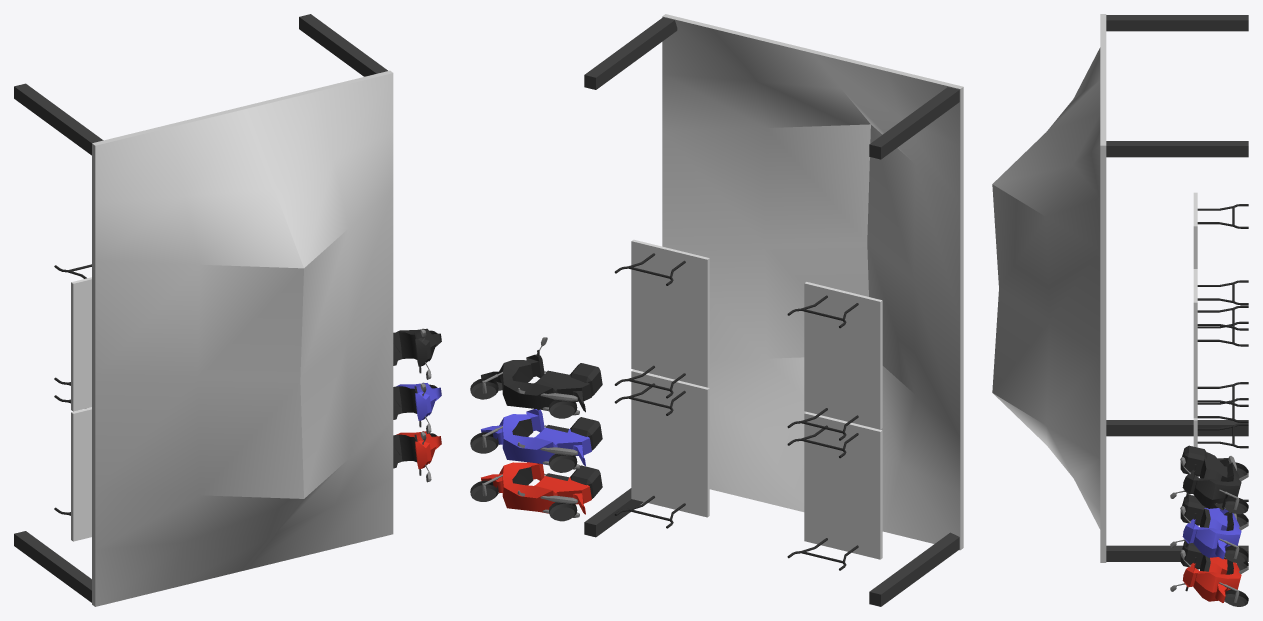
The model's file is delivery zone.fbx.
The picture shows the model from 3 angles, left to right: view 1: azimuth 30°, elevation 25°; view 2: azimuth 150°, elevation 25°; view 3: azimuth 270°, elevation 25°; orthographic projection. The views are drawn at different scales.
Visible parts, largest first — view 1: Plane, Plane.003, Plane.004, Cube, Cube.002, Cube.004; view 2: Plane, Plane.004, Plane.002, Plane.001, Plane.003, Cube.004, Cube.002, Cube, Cylinder.002, Cylinder, Cylinder.004, Cylinder.007 (+3 smaller); view 3: Plane, Cube.004, Cube.002, Cube, Plane.002, Cylinder.002, Cylinder.004, Cylinder.007, Cylinder.009, Cylinder.008, Cylinder, Plane.004.
Boxes of the visible parts, bbox=[...] form: Plane: bbox=[14, 14, 393, 606]; Plane.003: bbox=[71, 407, 91, 541]; Plane.004: bbox=[71, 277, 91, 411]; Cube: bbox=[393, 431, 436, 475]; Cube.002: bbox=[393, 383, 436, 427]; Cube.004: bbox=[393, 328, 436, 373]; Plane: bbox=[584, 14, 963, 606]; Plane.004: bbox=[804, 282, 882, 429]; Plane.002: bbox=[631, 239, 709, 387]; Plane.001: bbox=[631, 369, 709, 517]; Plane.003: bbox=[804, 412, 882, 559]; Cube.004: bbox=[499, 350, 602, 411]; Cube.002: bbox=[499, 409, 602, 465]; Cube: bbox=[499, 462, 602, 513]; Cylinder.002: bbox=[470, 425, 585, 472]; Cylinder: bbox=[470, 474, 585, 521]; Cylinder.004: bbox=[470, 371, 585, 418]; Cylinder.007: bbox=[614, 253, 685, 398]; Plane: bbox=[992, 14, 1248, 562]; Cube.004: bbox=[1180, 445, 1241, 508]; Cube.002: bbox=[1180, 494, 1241, 557]; Cube: bbox=[1180, 541, 1241, 601]; Plane.002: bbox=[1193, 269, 1197, 418]; Cylinder.002: bbox=[1214, 508, 1248, 563]; Cylinder.004: bbox=[1214, 456, 1248, 514]; Cylinder.007: bbox=[1197, 280, 1248, 406]; Cylinder.009: bbox=[1197, 204, 1248, 330]; Cylinder.008: bbox=[1197, 321, 1248, 448]; Cylinder: bbox=[1214, 558, 1248, 606]; Plane.004: bbox=[1193, 192, 1197, 268].
Bounding box in the file's own units: 1034 × 1095 × 609.
